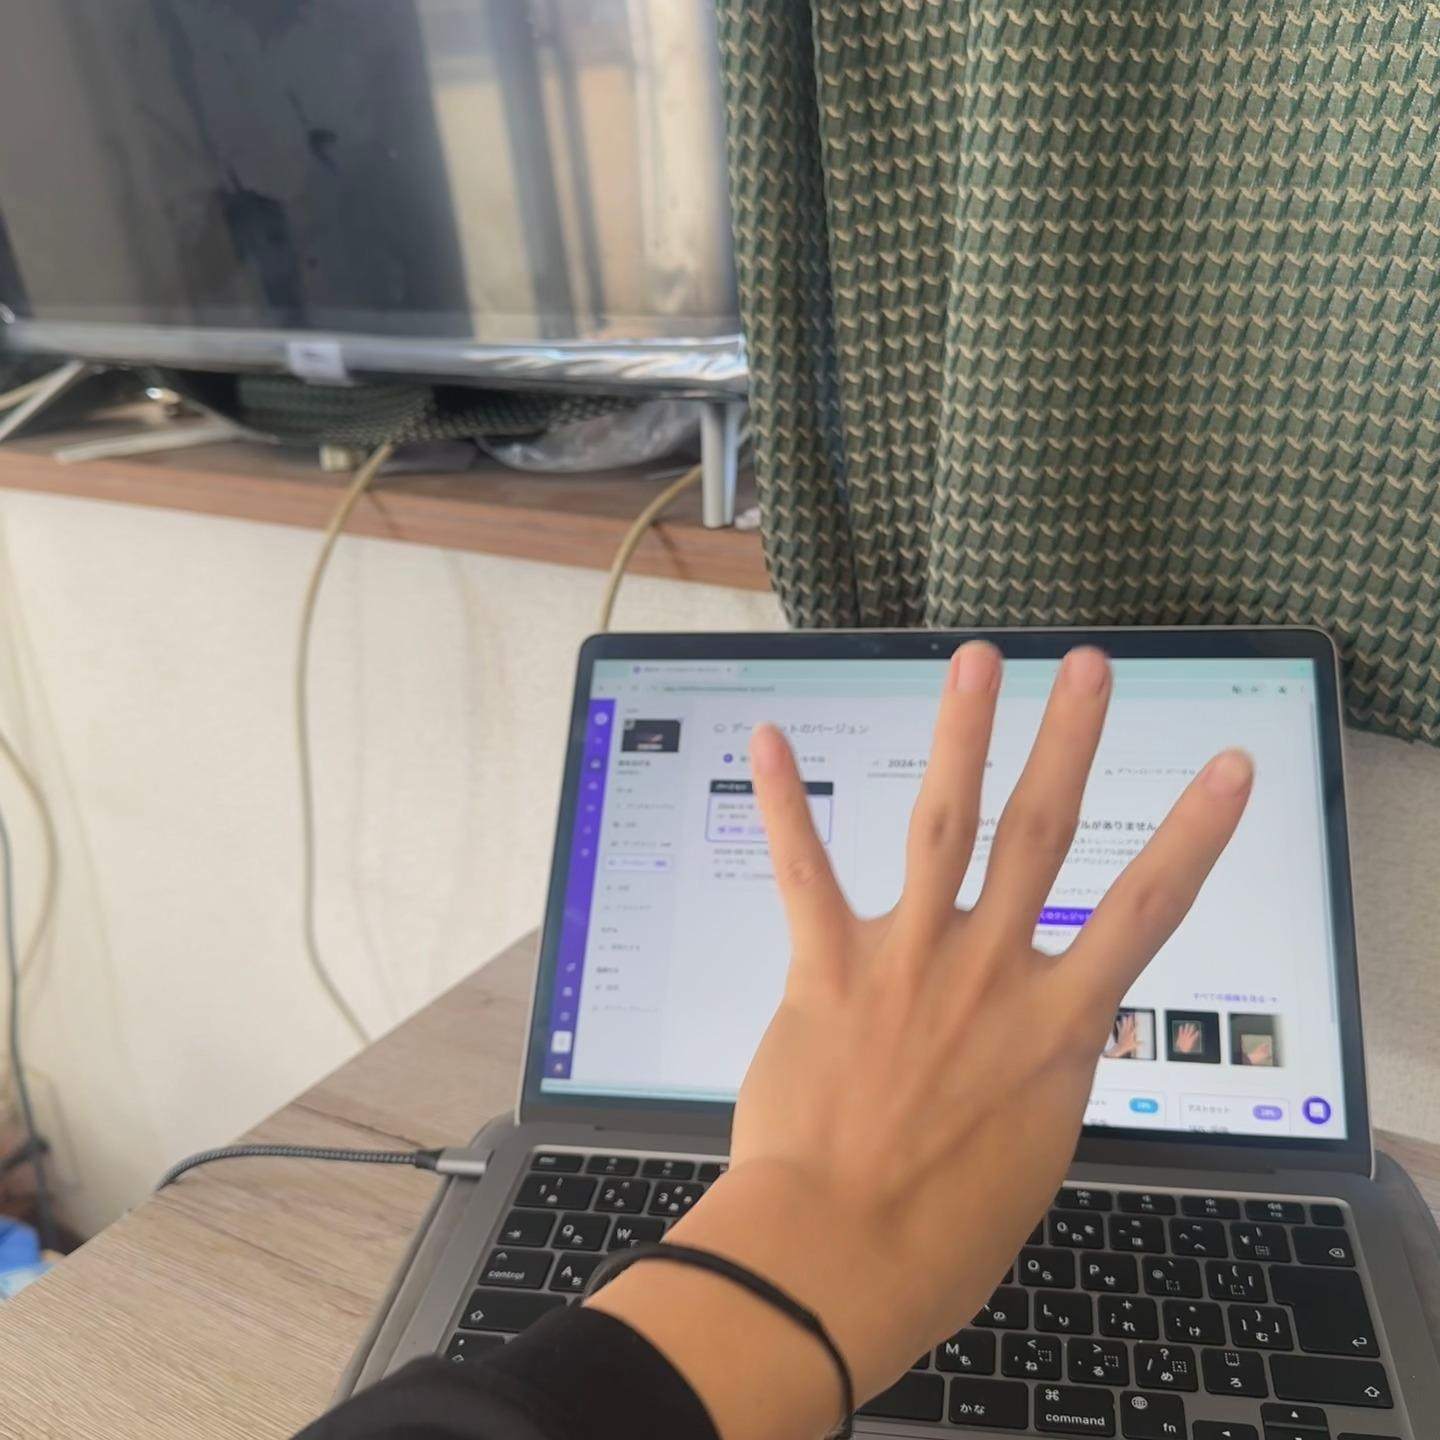without_gloves: (692, 502, 1325, 1429)
